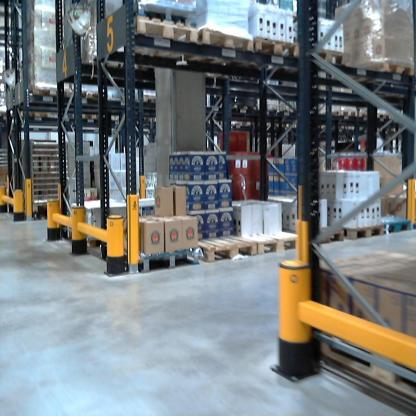pallet: (113, 14, 416, 405), (28, 117, 252, 214), (96, 241, 204, 278), (75, 88, 171, 129), (178, 16, 253, 67), (181, 229, 256, 267), (238, 31, 302, 71), (344, 59, 413, 92), (237, 220, 300, 256), (286, 222, 347, 245), (370, 212, 413, 238), (29, 82, 72, 106), (309, 43, 343, 68), (334, 221, 387, 237), (69, 85, 111, 105), (2, 103, 54, 118), (359, 108, 404, 121), (257, 102, 278, 117), (228, 103, 258, 112), (337, 107, 358, 119)
